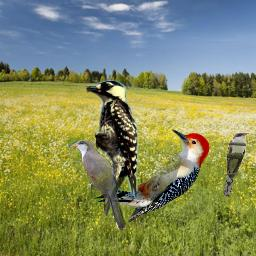Cuckoo: (68, 138, 128, 232), (224, 132, 250, 197)
Woodpecker: (93, 129, 210, 223), (83, 80, 141, 217)
